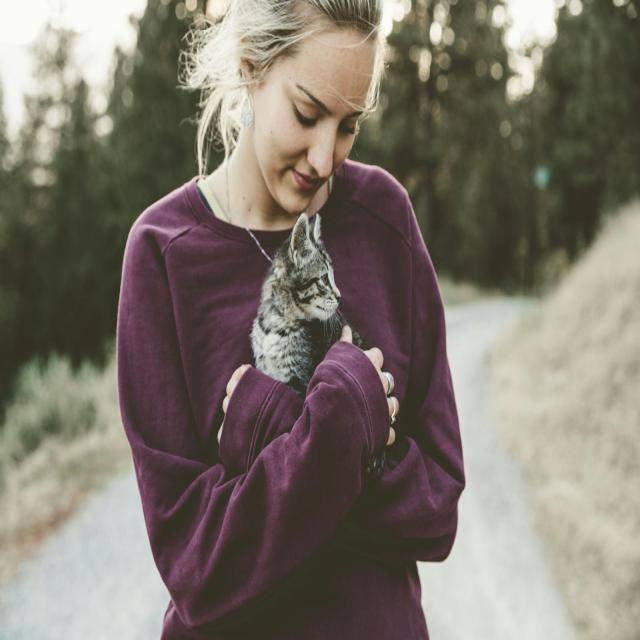Cat: (248, 210, 389, 482)
